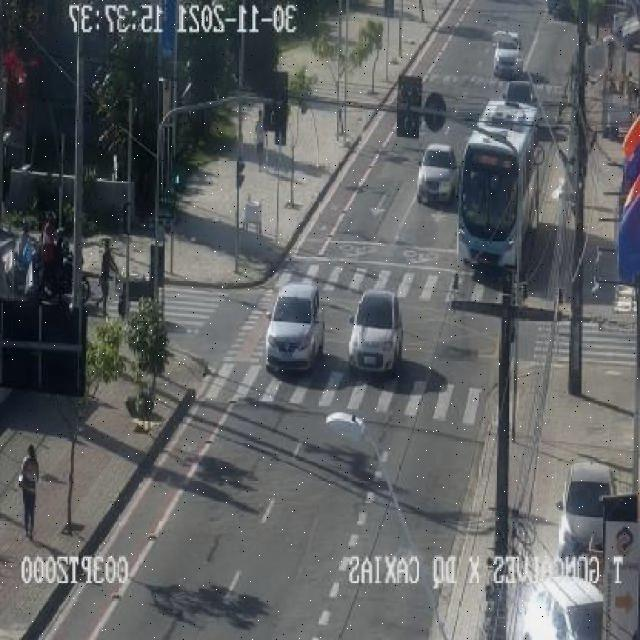Bus: (436, 99, 542, 299)
Car: (540, 454, 618, 552), (345, 294, 407, 386), (513, 582, 611, 640), (260, 286, 322, 376), (402, 140, 458, 215), (487, 25, 520, 76)
